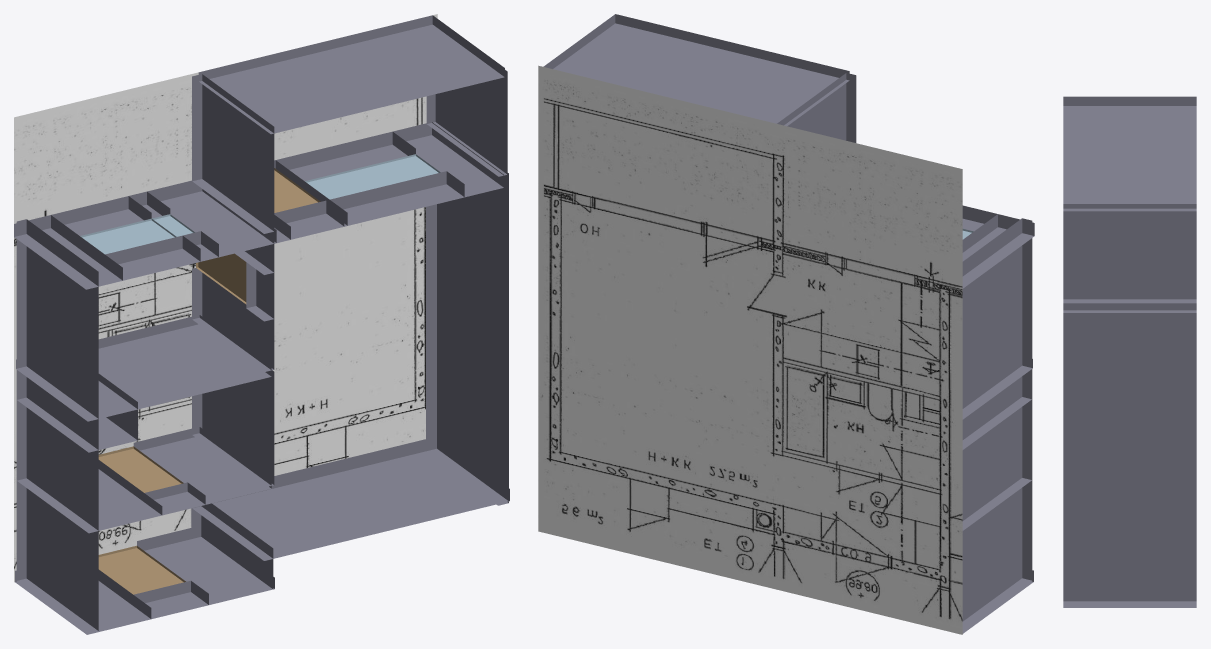
The picture shows the model from 3 angles, left to right: view 1: azimuth 30°, elevation 25°; view 2: azimuth 150°, elevation 25°; view 3: azimuth 270°, elevation 25°; orthographic projection. The views are drawn at different scales.
Parts seen in each view (by area): view 1: 1, InteriorFloor; view 2: InteriorFloor, 1; view 3: 1.
Part boxes in pixels (x1=…): 1: x1=14, y1=15, x2=509, y2=634; InteriorFloor: x1=14, y1=14, x2=437, y2=582; InteriorFloor: x1=538, y1=65, x2=962, y2=634; 1: x1=543, y1=14, x2=1034, y2=633; 1: x1=1063, y1=96, x2=1196, y2=607.
Bounding box in the file's own units: 9.51 × 9.97 × 2.8.
Materials: 2 (1 with a texture image).
